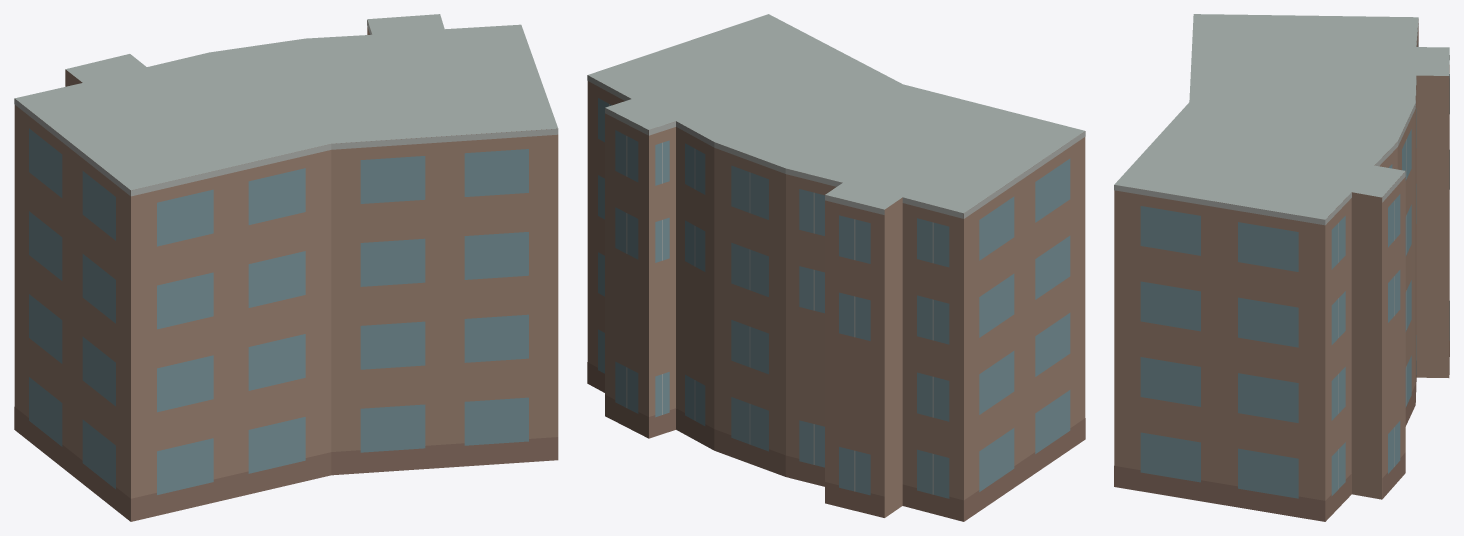
File: survey-upis-32526001.glb
3 renders of one model, left to right at view 1: azimuth 30°, elevation 25°; view 2: azimuth 150°, elevation 25°; view 3: azimuth 270°, elevation 25°, orthographic. The views are drawn at different scales.
Visible parts, largest first — view 1: survey-upis-32526001.tmp; view 2: survey-upis-32526001.tmp; view 3: survey-upis-32526001.tmp.
Boxes of the visible parts, <box> form: survey-upis-32526001.tmp: <box>14,14,558,521</box>; survey-upis-32526001.tmp: <box>587,14,1085,521</box>; survey-upis-32526001.tmp: <box>1114,14,1449,521</box>.
Size of the model in its own units: 19.44 by 13.3 by 13.4.
